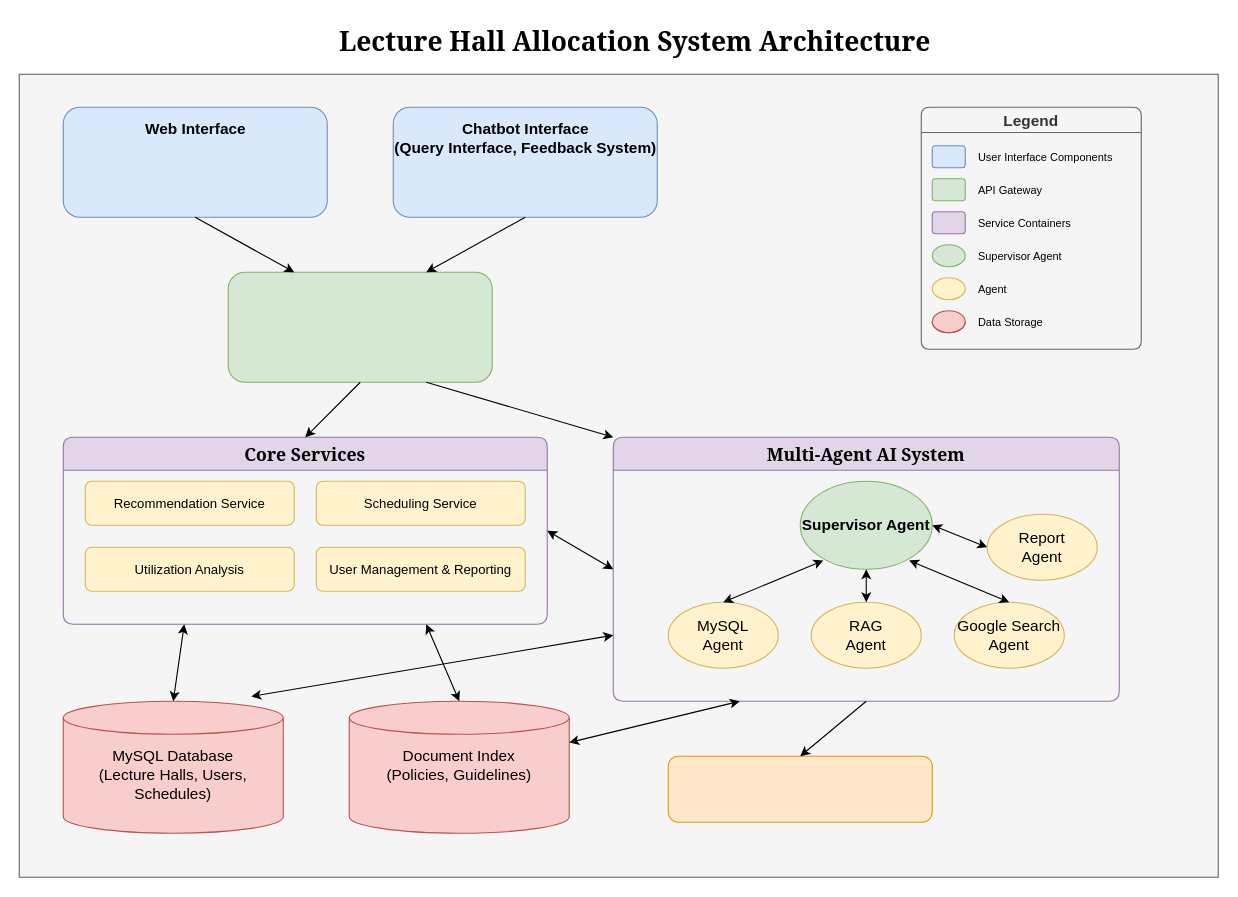
The diagram is 1238 pixels wide and 897 high, and some of its shapes have lost their labels. The centre of each missing label's shape, as x and y in pixels:
"PM2 Process Manager" belongs at (799,788).
"REST API Gateway (Authentication, Load Balancing)" belongs at (359,326).
